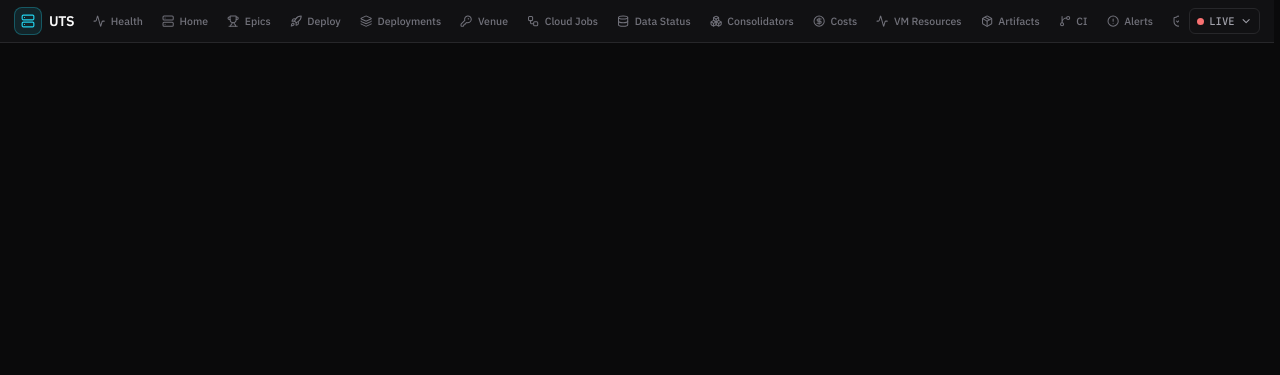
Header › shows Disconnected badge when API has error
The image size is (1280, 375).
Click the button with test id "status-menu-trigger" at (1224, 21), box [1189,8,1260,34]
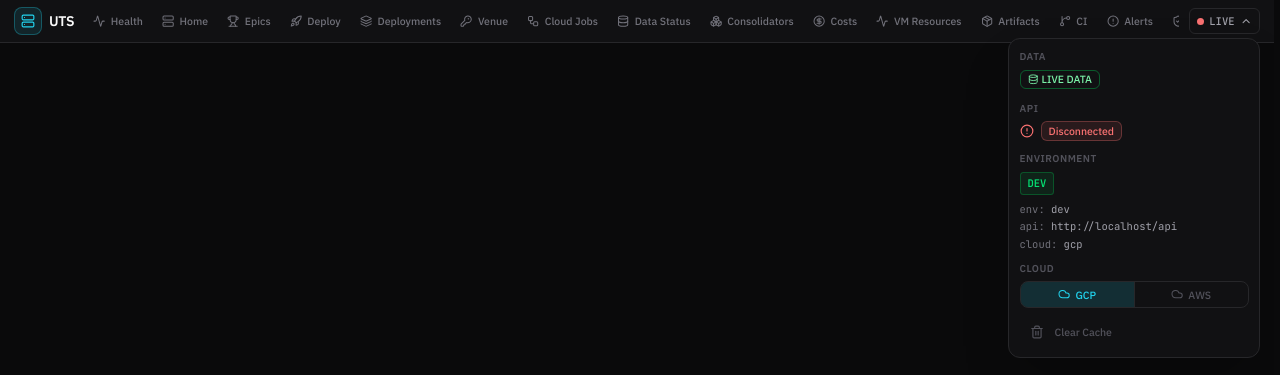
Now the text "Disconnected" is shown, box [1040,121,1122,141]
